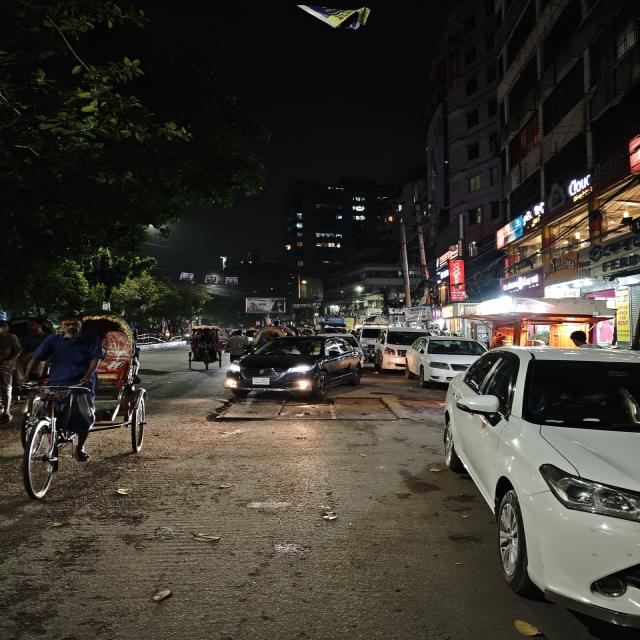car: (440, 344, 640, 629), (230, 333, 365, 399), (403, 334, 488, 385), (287, 0, 379, 40), (375, 326, 419, 380)
rickshaw: (3, 316, 150, 507), (183, 327, 223, 372)
truck: (289, 1, 378, 40)
